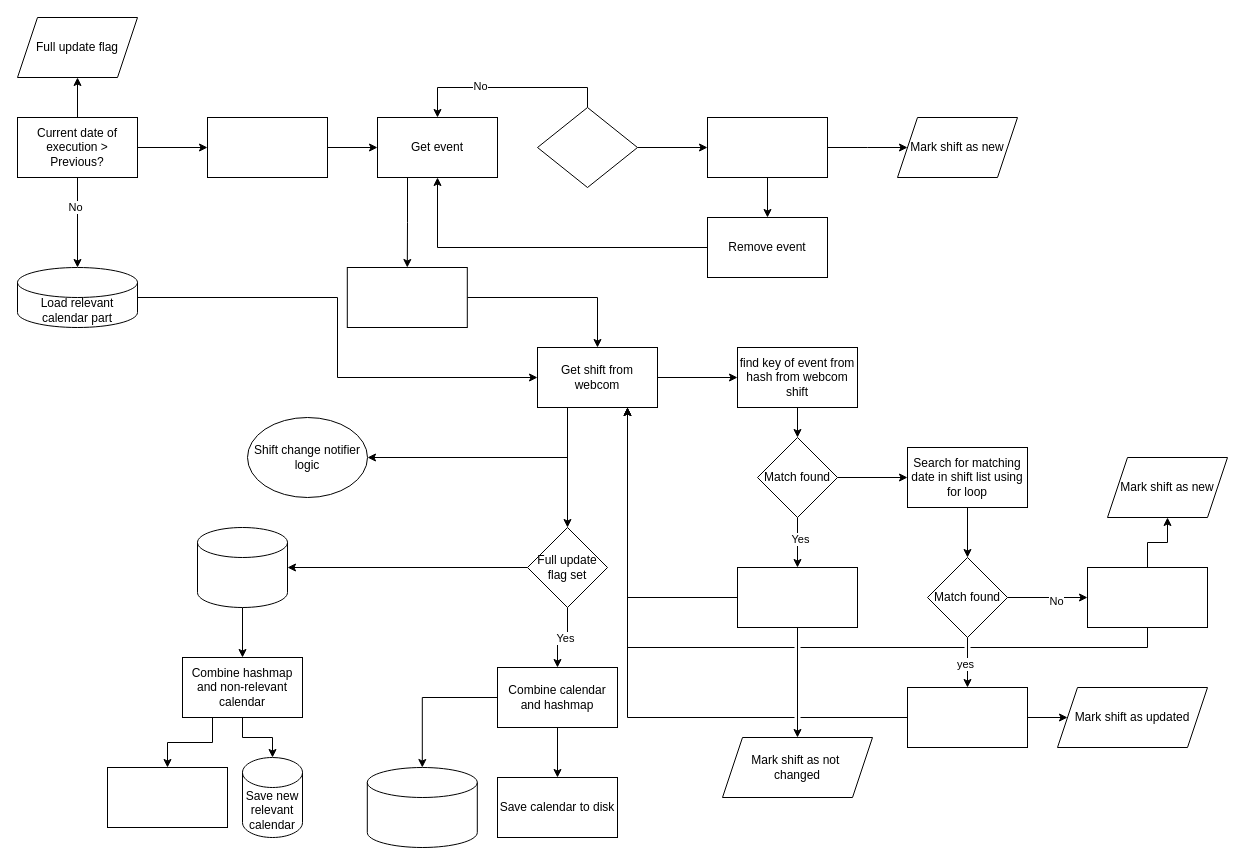
Some shapes in this 1245 by 865 pixel diagram are drawn without their labels. The shapes that lost their labels are listed below. From the top down, each one's box as (x1, y1, x2, y2) in pixels, then its label:
(206, 116, 328, 178): Load full calendar
(536, 106, 638, 188): !<1month ago
(706, 116, 828, 178): Add to hashmap
(346, 266, 467, 328): Keep altered calendar in memory
(196, 526, 288, 608): Load non-relevant calendar
(736, 566, 858, 628): Do nothing
(1086, 566, 1208, 628): It's a new shift. add it to the hashmap
(906, 686, 1028, 748): Remove current match from hashmap and add new one
(106, 766, 228, 828): Save combined calendar to disk
(366, 766, 477, 848): Save relevant and non-relevant calendar also
